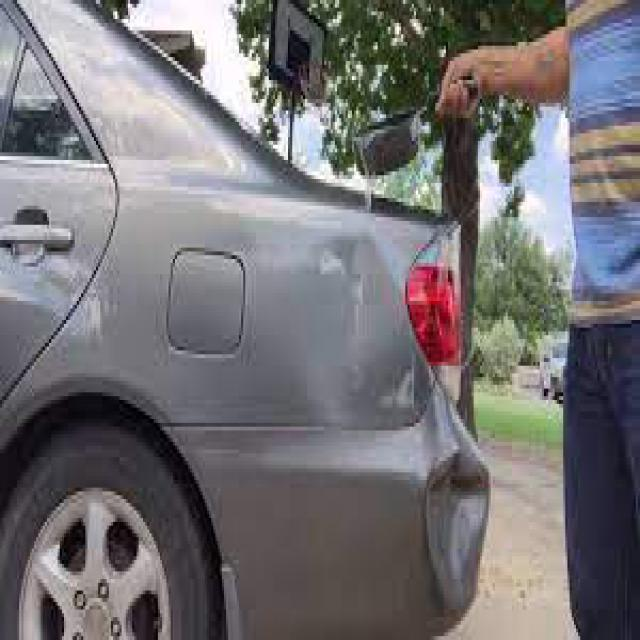doorouter-dent: (0, 152, 118, 484)
quaterpanel-dent: (120, 191, 404, 549)
rear-bumper-dent: (395, 229, 498, 636)
